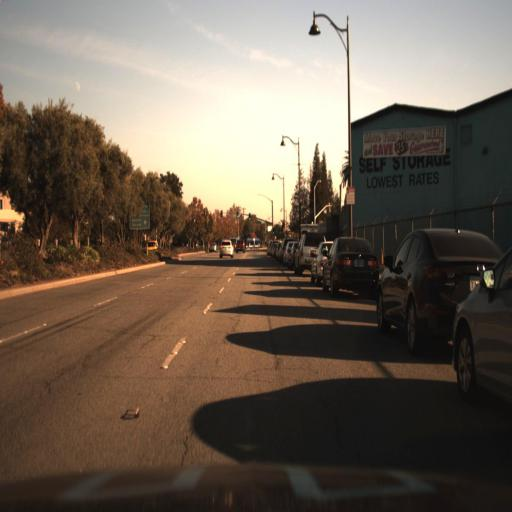car: (372, 226, 504, 350), (452, 248, 512, 412), (320, 233, 380, 299), (140, 231, 162, 255), (218, 238, 234, 262), (233, 236, 248, 256), (209, 236, 220, 258)
trafficLight-Green: (270, 226, 276, 241), (246, 211, 252, 224), (234, 210, 240, 222)
